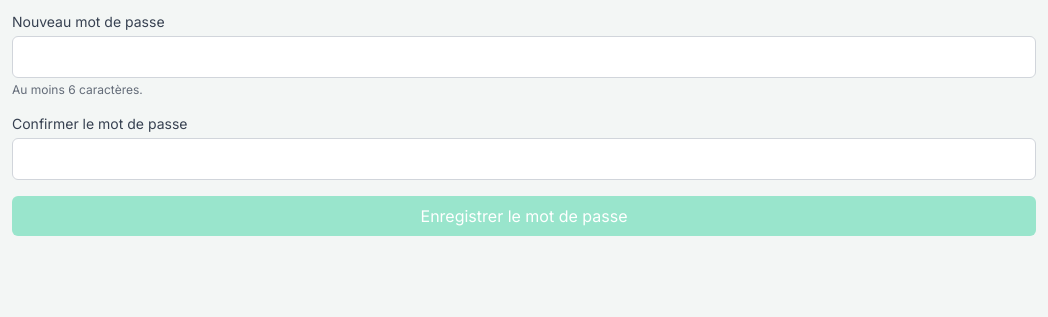
Test case: NewPasswordForm › refuse deux mots de passe différents
Type "secret123" into the password field labelled "Nouveau mot de passe" at point(524, 57), box [12,36,1036,78]
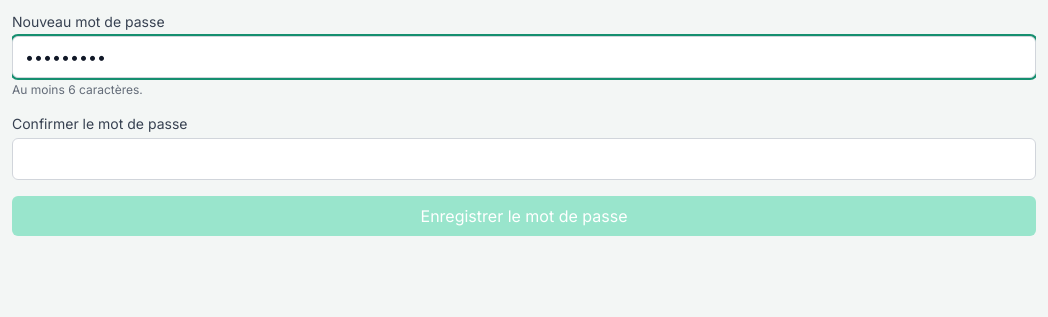
Type "secret124" into the password field labelled "Confirmer le mot de passe" at point(524, 159), box [12,138,1036,180]
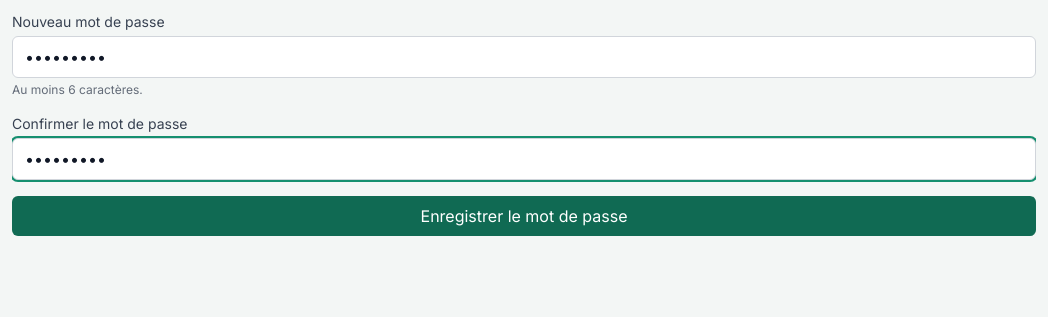
Click the button "Enregistrer le mot de passe" at point(524, 216), box [12,196,1036,236]
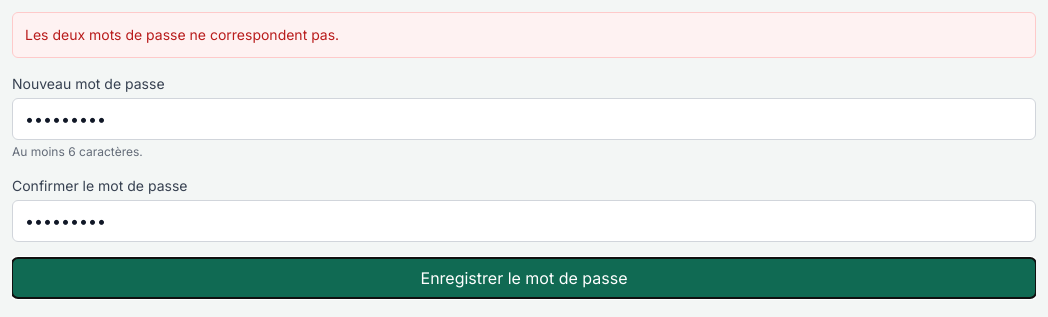
Check: the message shows "ne correspondent pas", box [25,26,339,43]
